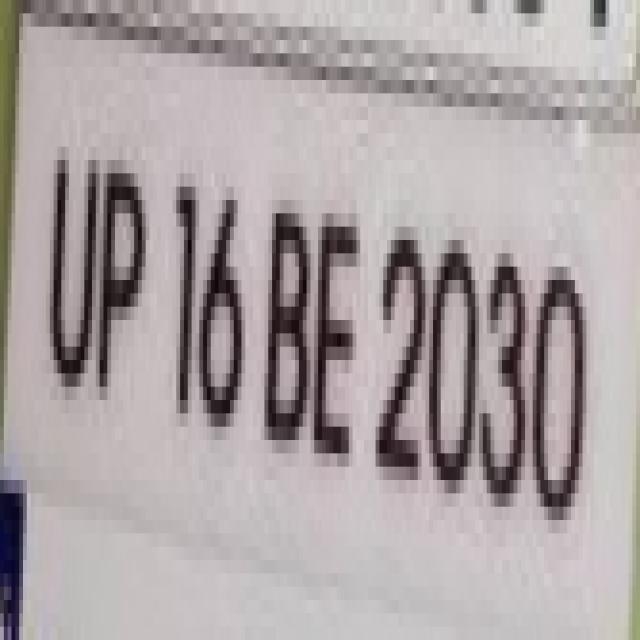0: (529, 249, 589, 567), (424, 229, 479, 530)
1: (169, 152, 201, 441)
3: (477, 240, 528, 544)
6: (197, 172, 246, 434)
B: (260, 192, 312, 461)
E: (310, 196, 363, 471)
P: (94, 136, 149, 434)
U: (40, 132, 103, 413)
